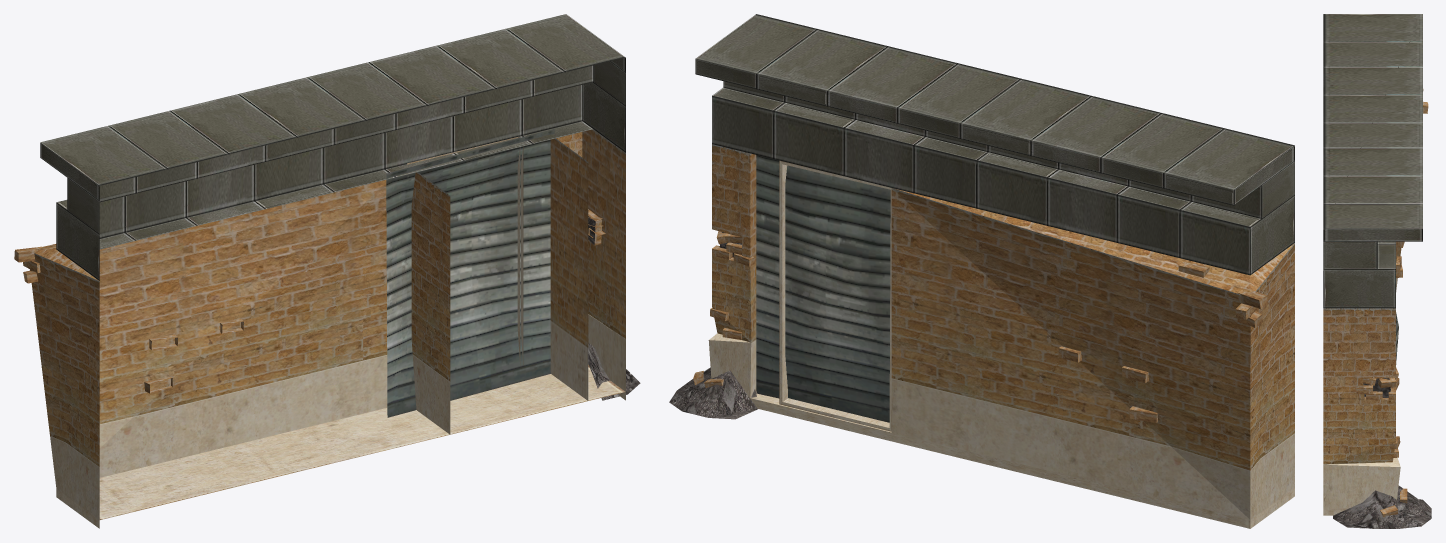
Rendered from Store_front_27.fbx.
3 views of the same model, side by side, from view 1: azimuth 30°, elevation 25°; view 2: azimuth 150°, elevation 25°; view 3: azimuth 270°, elevation 25° (orthographic). The views are drawn at different scales.
Parts seen in each view (by area): view 1: Store_front_27; view 2: Store_front_27; view 3: Store_front_27.
Boxes of the visible parts, <box> form: Store_front_27: <box>14,14,640,528</box>; Store_front_27: <box>669,14,1294,528</box>; Store_front_27: <box>1323,14,1431,528</box>.
Size of the model in its own units: 780 by 436 by 149.
